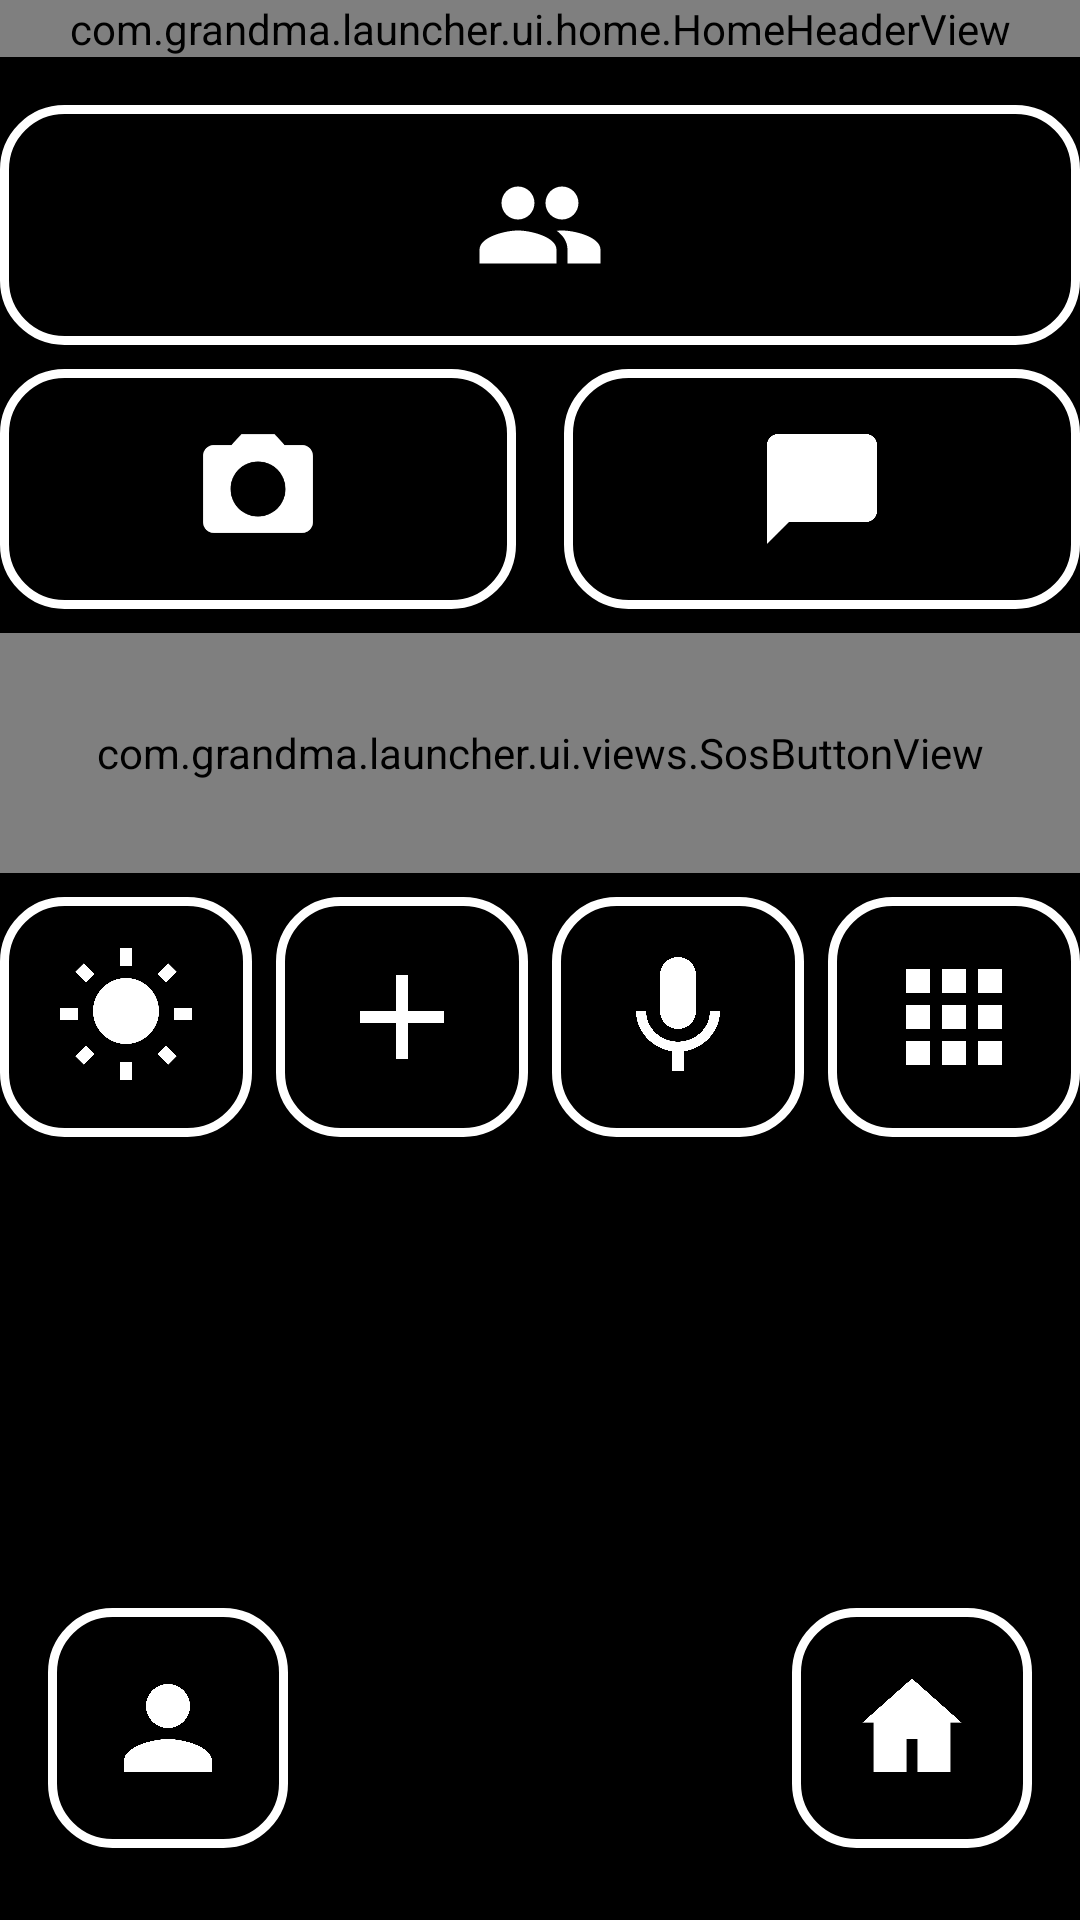

Point at icon controls on the screen. Image size 1080 × 1920, points as (x,y).
Add a person: (402,1017)
Apps: (954,1017)
Ask: (678,1017)
Home: (912,1728)
Weather: (126,1017)
